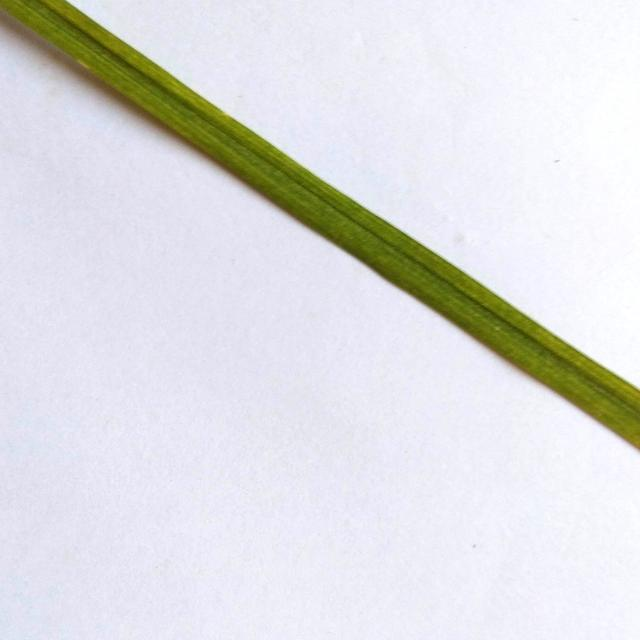Rice_Healthy: (0, 0, 640, 447)
